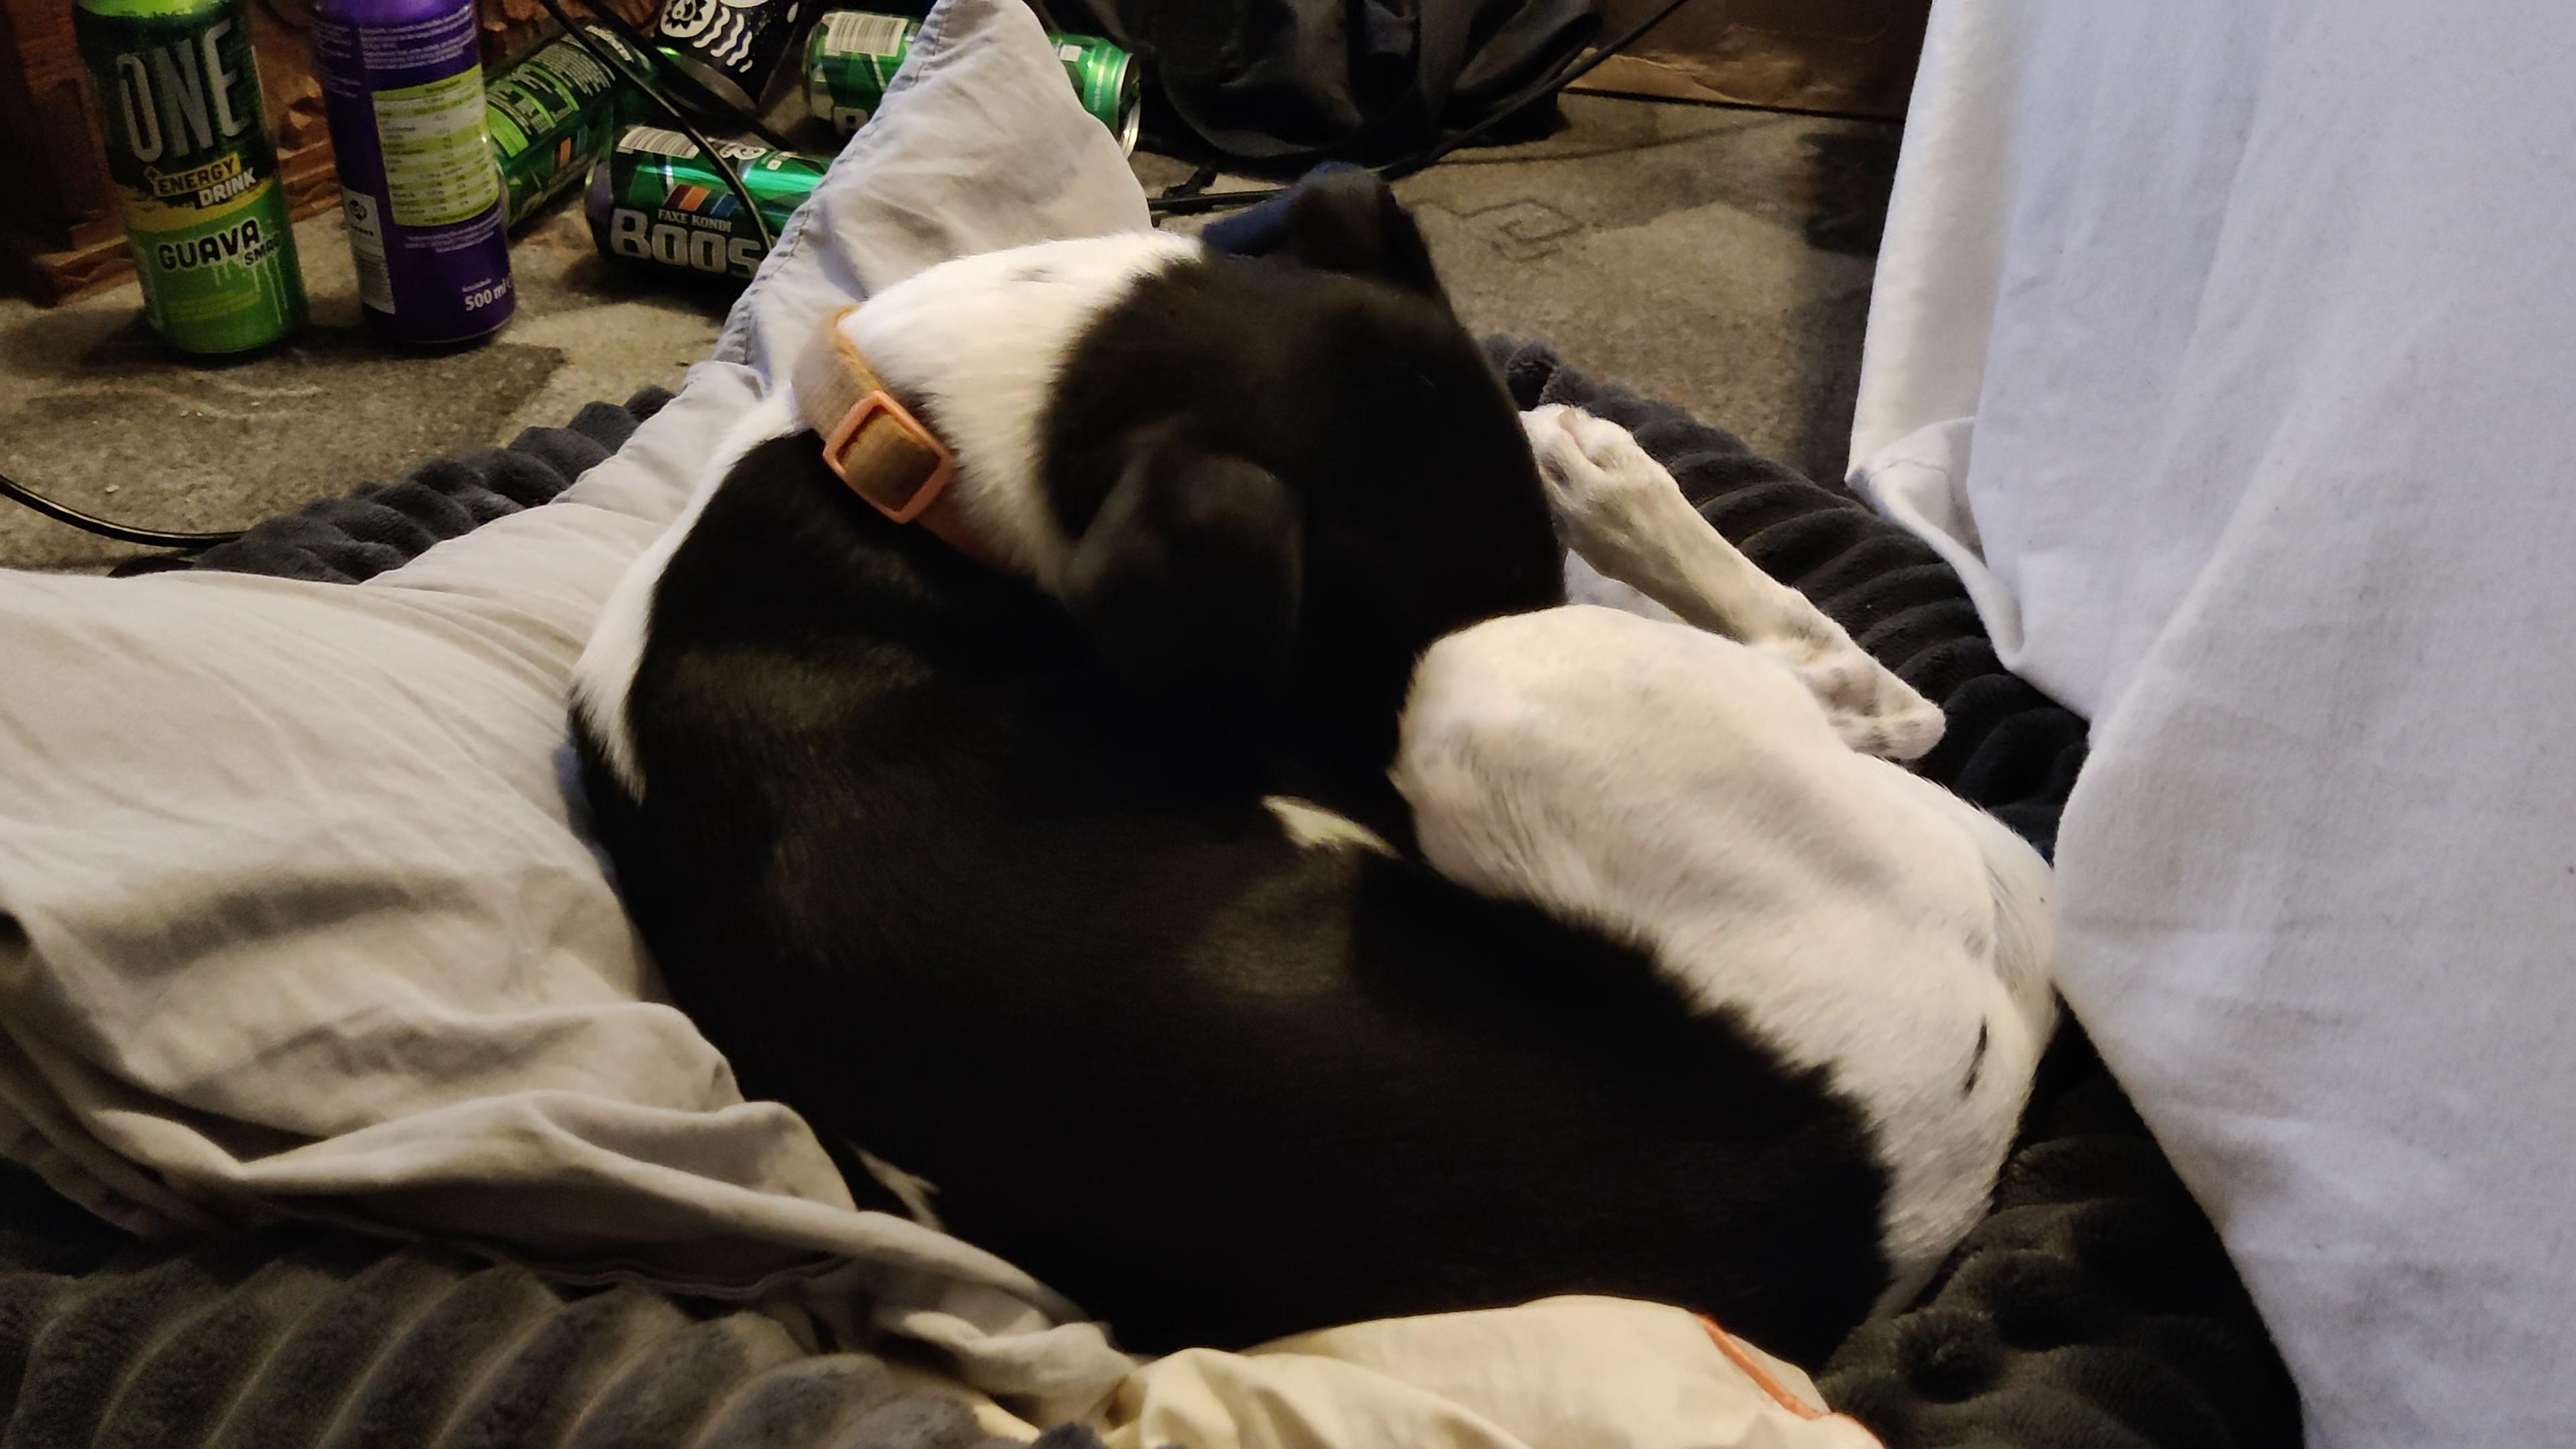Dog: (506, 152, 2105, 1357)
